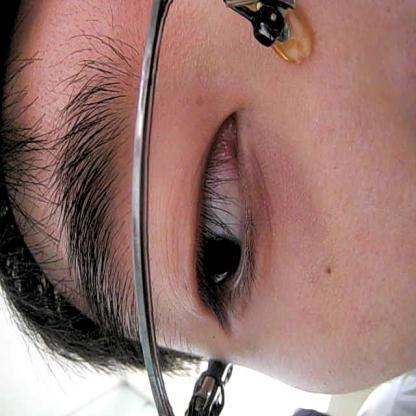Right: (174, 96, 271, 336)
